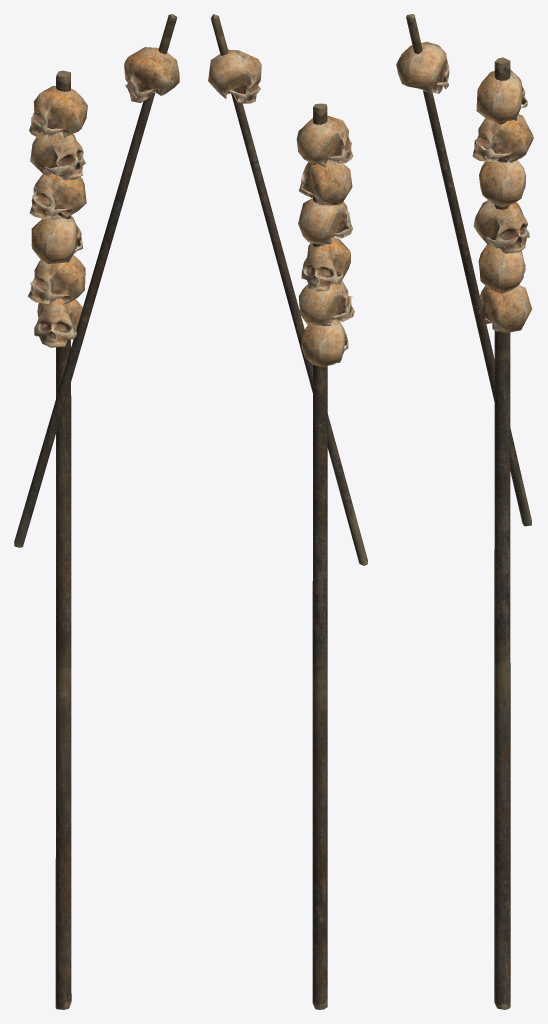
Rendered from SM_SkullSign.fbx.
3 views of the same model, side by side, from view 1: azimuth 30°, elevation 25°; view 2: azimuth 210°, elevation 25°; view 3: azimuth 270°, elevation 25° (orthographic). The views are drawn at different scales.
Visible parts, largest first — view 1: SM_SkullSign_LOD0; view 2: SM_SkullSign_LOD0; view 3: SM_SkullSign_LOD0.
Boxes of the visible parts, x1=… form: SM_SkullSign_LOD0: x1=14, y1=14, x2=179, y2=1009; SM_SkullSign_LOD0: x1=208, y1=14, x2=367, y2=1009; SM_SkullSign_LOD0: x1=396, y1=14, x2=533, y2=1009.
Size of the model in its own units: 51.21 by 54.32 by 446.
Materials: 1 (1 with a texture image).
